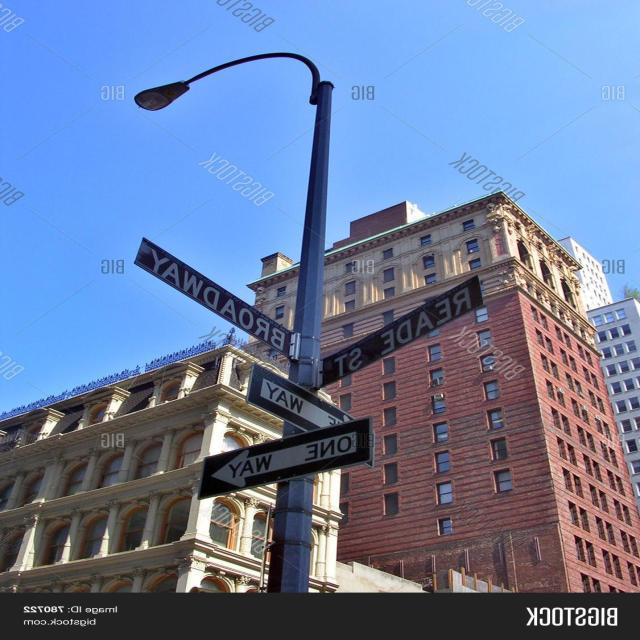off: (135, 0, 380, 140)
